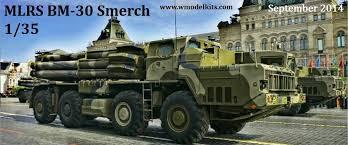MIL_SAM_TEL: (13, 37, 305, 141)
